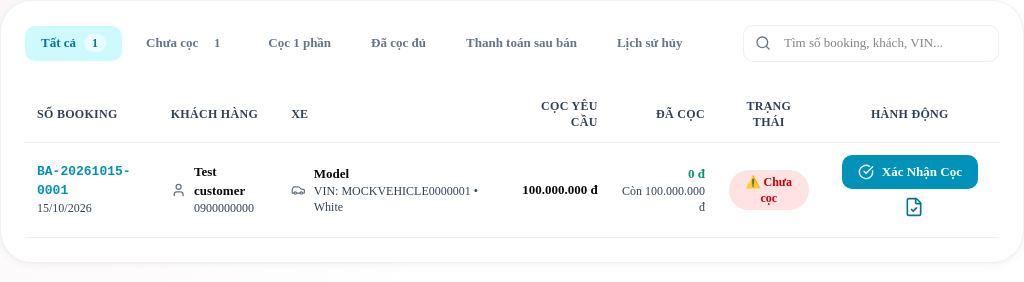
Test case: keeps completed records accessible in settlement mode without exposing another deposit action
Check: the button "Xác Nhận Cọc" is shown, box x1=842 y1=155 x2=978 y2=189
Step 1. Click the button "Thanh toán sau bán" → click(521, 43), box x1=450 y1=26 x2=593 y2=61
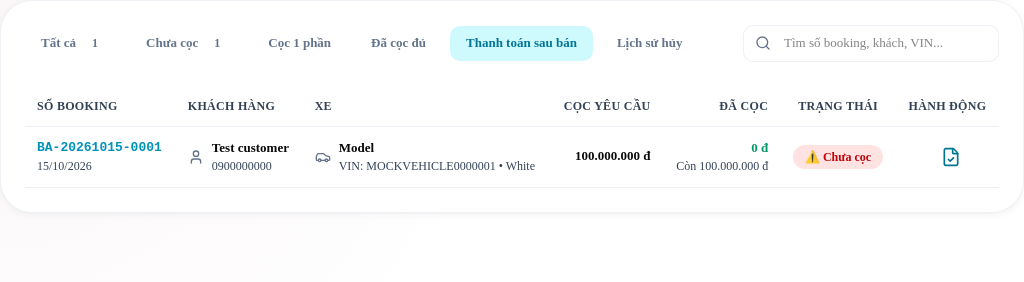
Check: the button named "Hồ sơ bán xe" is shown, box x1=933 y1=139 x2=969 y2=175
Check: the button "Xác Nhận Cọc" is gone
